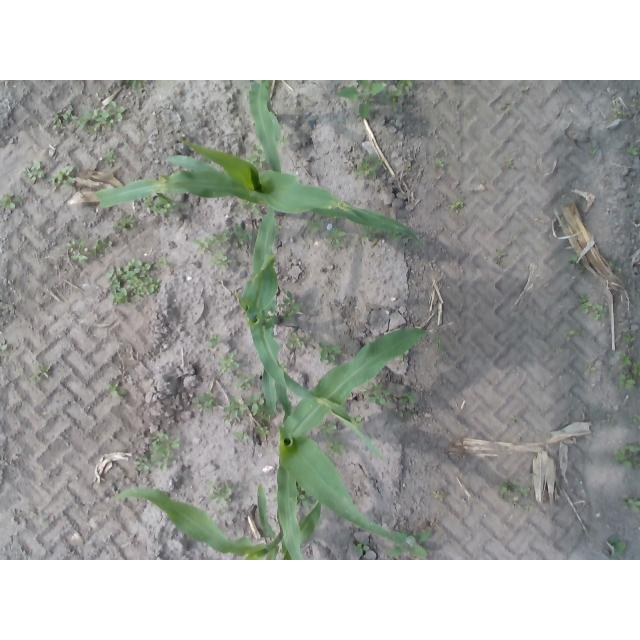Maize: (277, 328, 444, 561), (237, 208, 383, 458), (96, 140, 425, 249), (117, 484, 323, 561), (250, 80, 285, 176)
Weeds: (108, 254, 172, 302), (194, 223, 254, 274), (338, 80, 387, 124), (133, 430, 181, 471), (81, 100, 128, 136), (64, 234, 114, 262), (387, 530, 432, 559), (222, 392, 267, 420), (497, 478, 532, 511), (49, 104, 79, 138), (579, 291, 608, 323), (278, 290, 305, 324), (386, 81, 416, 111), (617, 353, 639, 392), (612, 441, 640, 471), (143, 196, 178, 219), (47, 165, 78, 189), (202, 478, 233, 502), (355, 152, 381, 180), (365, 380, 392, 404), (21, 160, 45, 187), (216, 350, 241, 375), (318, 341, 343, 365), (327, 226, 349, 253), (192, 393, 220, 412), (247, 145, 267, 171), (29, 364, 51, 384), (286, 332, 309, 351), (609, 534, 627, 558), (306, 217, 326, 238), (114, 212, 134, 233), (584, 402, 604, 422), (105, 380, 127, 398), (0, 192, 18, 213), (236, 201, 261, 216), (104, 147, 121, 169), (610, 98, 630, 116), (236, 374, 257, 391), (619, 497, 640, 514), (319, 419, 338, 436), (360, 225, 380, 241), (119, 81, 148, 92), (327, 441, 346, 456), (351, 542, 371, 556), (297, 487, 312, 505), (254, 425, 271, 440), (231, 428, 250, 441), (402, 391, 418, 406), (207, 333, 221, 349), (496, 250, 509, 267), (563, 330, 581, 342), (388, 230, 404, 243), (432, 489, 448, 502), (436, 159, 452, 170), (402, 409, 413, 423), (629, 413, 640, 427), (625, 146, 640, 156), (607, 413, 617, 428), (623, 332, 635, 344), (570, 253, 583, 264), (608, 263, 622, 273), (449, 202, 464, 211), (280, 137, 292, 148), (505, 157, 516, 168), (353, 417, 363, 428), (520, 86, 532, 95), (586, 365, 598, 373), (589, 148, 597, 160), (0, 340, 8, 352), (526, 471, 538, 478), (281, 363, 289, 373), (556, 347, 564, 355), (511, 414, 518, 423)
